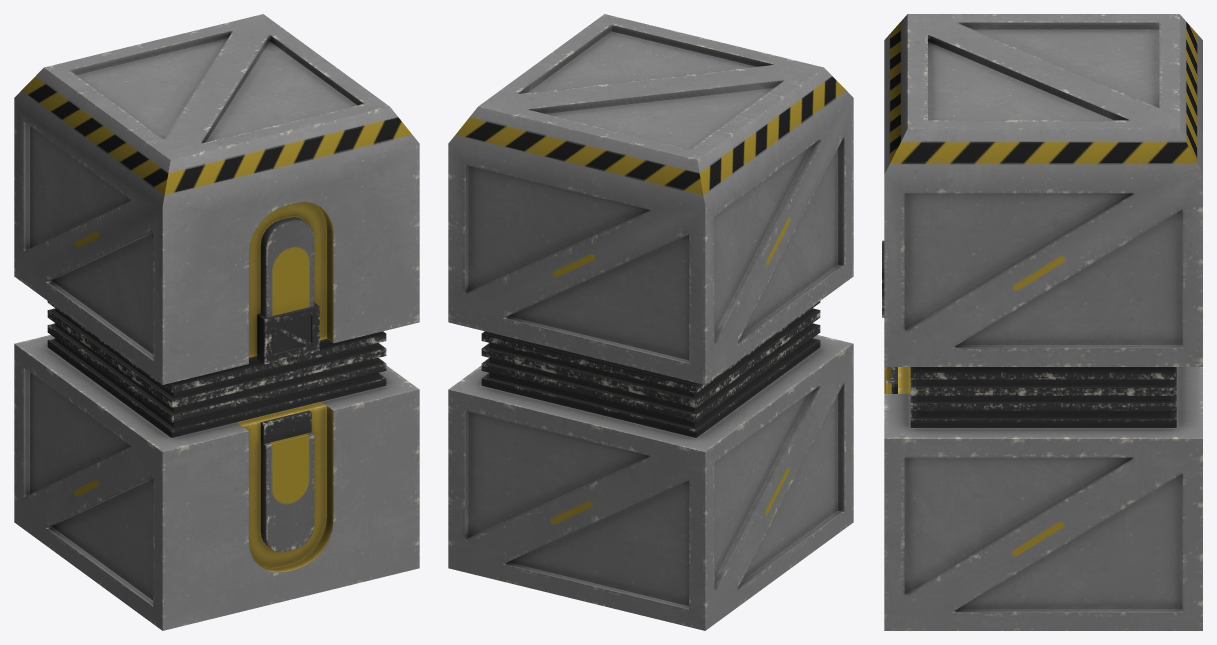
Rendered from sci_fi_container.glb.
3 renders of one model, left to right at view 1: azimuth 30°, elevation 25°; view 2: azimuth 150°, elevation 25°; view 3: azimuth 270°, elevation 25°, orthographic. The views are drawn at different scales.
Visible parts, largest first — view 1: Sci_Fi_Objets.2; view 2: Sci_Fi_Objets.2; view 3: Sci_Fi_Objets.2.
Boxes of the visible parts, x1,y1,x2,y2 form: Sci_Fi_Objets.2: (14,14,419,630); Sci_Fi_Objets.2: (448,14,853,630); Sci_Fi_Objets.2: (882,14,1202,630).
Size of the model in its own units: 1.17 by 2 by 1.18.
Materials: 1 (1 with a texture image).
